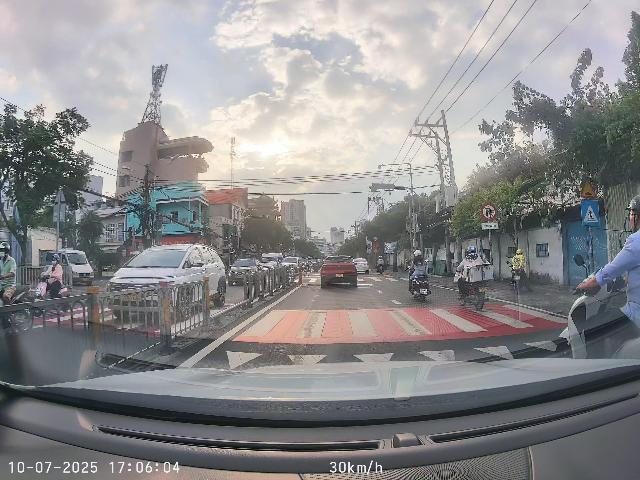124b-cam-oto-quay-dau-xe: (480, 202, 497, 221)
221-duong-go-ghe: (580, 180, 597, 198)
423a-duong-nguoi-di-bo-sang-ngang-1: (580, 200, 600, 227)
